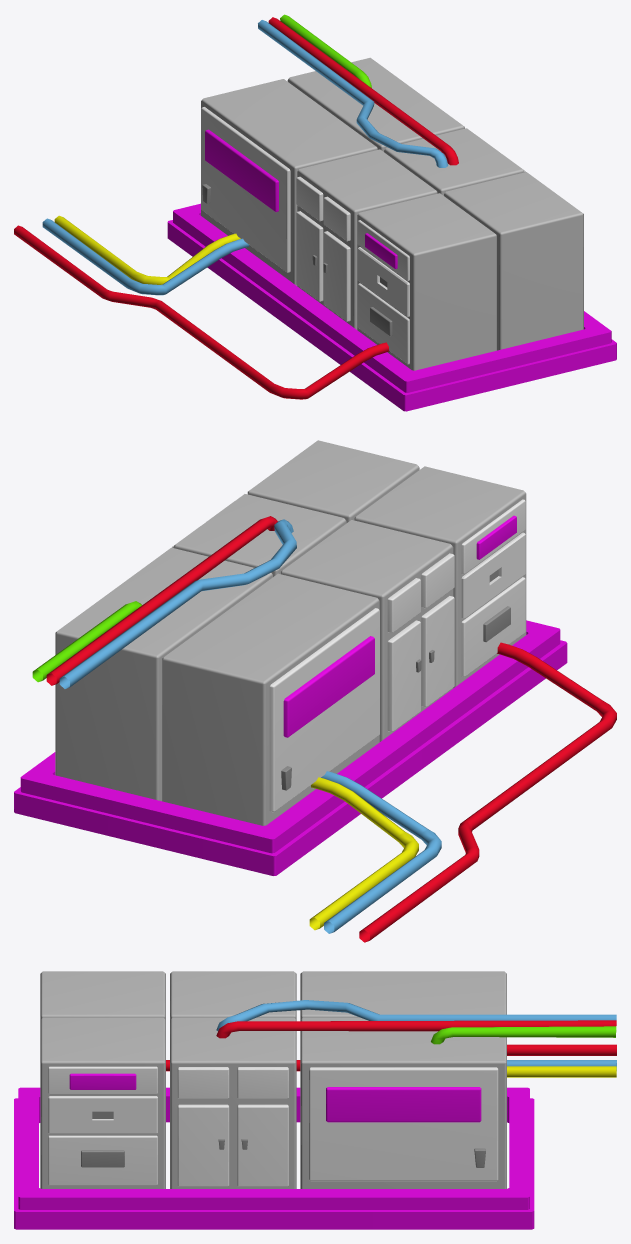
File: Electricity.fbx
The picture shows the model from 3 angles, top to bottom: view 1: azimuth 30°, elevation 25°; view 2: azimuth 150°, elevation 25°; view 3: azimuth 270°, elevation 25°; orthographic projection. The views are drawn at different scales.
Visible parts, largest first — view 1: Case3 (×2), Case1 (×2), Under_cases, Case2 (×2), Cable5, Cable2, Cable6, Cable3, Cable1, Cable4; view 2: Case1 (×2), Under_cases, Case3 (×2), Case2 (×2), Cable5, Cable2, Cable6, Cable3, Cable1, Cable4; view 3: Case1 (×2), Case3 (×2), Under_cases, Case2 (×2), Cable3, Cable2, Cable4, Cable5, Cable1, Cable6.
Boxes of the visible parts, x1,y1,x2,y2 form: Case3 (×2): [357, 172, 583, 370]; Case1 (×2): [201, 57, 464, 285]; Under_cases: [167, 203, 616, 411]; Case2 (×2): [296, 128, 525, 329]; Cable5: [14, 225, 389, 399]; Cable2: [258, 20, 447, 167]; Cable6: [42, 218, 249, 295]; Cable3: [268, 17, 458, 165]; Cable1: [54, 215, 240, 284]; Cable4: [280, 14, 371, 87]; Case1 (×2): [55, 547, 379, 825]; Under_cases: [14, 620, 567, 875]; Case3 (×2): [247, 440, 526, 688]; Case2 (×2): [172, 494, 454, 741]; Cable5: [359, 642, 616, 942]; Cable2: [59, 519, 296, 688]; Cable6: [321, 771, 441, 933]; Cable3: [46, 516, 277, 685]; Cable1: [309, 777, 418, 930]; Cable4: [32, 601, 141, 682]; Case1 (×2): [300, 971, 506, 1188]; Case3 (×2): [40, 971, 165, 1188]; Under_cases: [14, 1087, 534, 1229]; Case2 (×2): [170, 971, 296, 1188]; Cable3: [216, 1020, 616, 1038]; Cable2: [216, 1000, 616, 1030]; Cable4: [431, 1026, 616, 1044]; Cable5: [166, 1044, 616, 1071]; Cable1: [507, 1066, 616, 1077]; Cable6: [507, 1060, 616, 1070].
Bounding box in the file's own units: 7.07 × 3.25 × 10.31.
